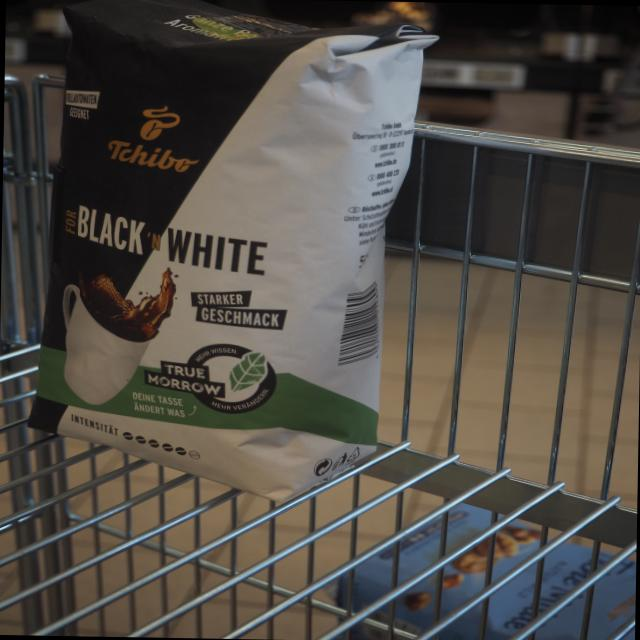BW Bohne: (12, 0, 444, 515)
